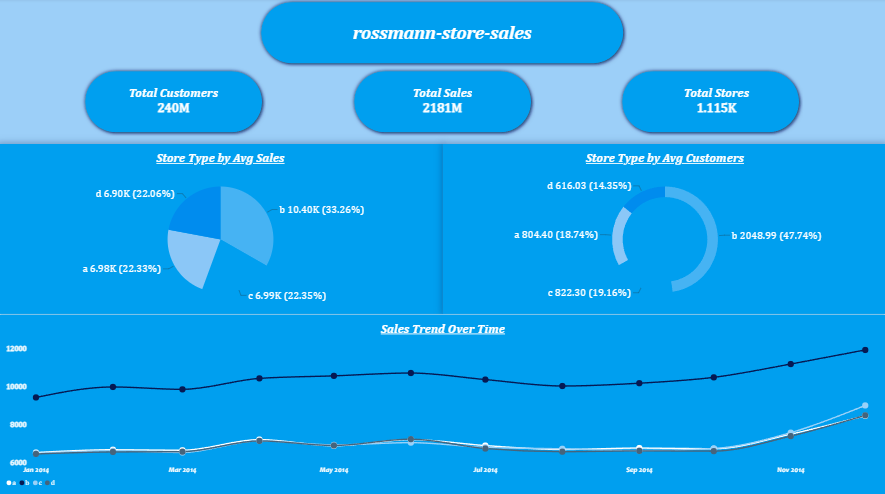

What the dashboard file says about the page in this screenshot:
{"tool":"powerbi","page":{"name":"Page 1","canvas":[1920,1080],"ordinal":0},"visuals":[{"type":"shape","box":[560,0,800,150],"z":0},{"type":"shape","box":[180,149,400,150],"z":0,"group":"g1"},{"type":"shape","box":[760,149,400,150],"z":0,"group":"g2"},{"type":"shape","box":[1340,149,400,150],"z":0,"group":"g3"},{"type":"group","id":"g1","title":"Group 1","box":[180,149,400,150],"z":1000},{"type":"cardVisual","fields":{"Data":["Sum(train.Customers)"]},"box":[229.7,164.1,300.2,118.8],"z":1000,"group":"g1"},{"type":"cardVisual","fields":{"Data":["Sum(train.Sales)"]},"box":[809.7,164.1,300.2,118.8],"z":1000,"group":"g2"},{"type":"cardVisual","fields":{"Data":["Count(train.Store)"]},"box":[1402.6,164.1,300.2,118.8],"z":1000,"group":"g3"},{"type":"group","id":"g2","title":"Group 2","box":[760,149,400,150],"z":2000},{"type":"group","id":"g3","title":"Group 3","box":[1340,149,400,150],"z":3000},{"type":"pieChart","title":"Store Type by Avg Sales","fields":{"Category":["train.StoreType"],"Y":["Avg(train.Sales)"]},"box":[0,315.4,961.2,367.2],"z":4000},{"type":"donutChart","title":"Store Type by Avg Customers","fields":{"Category":["train.StoreType"],"Y":["Avg(train.Customers)"]},"box":[961.2,315.4,959,367.2],"z":5000},{"type":"lineChart","title":"Sales Trend Over Time ","fields":{"Category":["train.Date.Variation.Date Hierarchy.Year","train.Date.Variation.Date Hierarchy.Month"],"Series":["train.StoreType"],"Y":["Avg(train.Sales)"]},"box":[0,682.6,1920.2,397.4],"z":6000}]}

Visuals, with their boxes in screenshot pixels (x1, y1, x2, y2), scaled from the page's 1920x1080 canvas onto the 885x494 screenshot:
shape: box=[258, 0, 627, 69]
shape: box=[83, 68, 267, 137]
shape: box=[350, 68, 535, 137]
shape: box=[618, 68, 802, 137]
"Group 1" group: box=[83, 68, 267, 137]
cardVisual - Sum(train.Customers): box=[106, 75, 244, 129]
cardVisual - Sum(train.Sales): box=[373, 75, 512, 129]
cardVisual - Count(train.Store): box=[647, 75, 785, 129]
"Group 2" group: box=[350, 68, 535, 137]
"Group 3" group: box=[618, 68, 802, 137]
"Store Type by Avg Sales" pieChart: box=[0, 144, 443, 312]
"Store Type by Avg Customers" donutChart: box=[443, 144, 884, 312]
"Sales Trend Over Time " lineChart: box=[0, 312, 884, 493]
